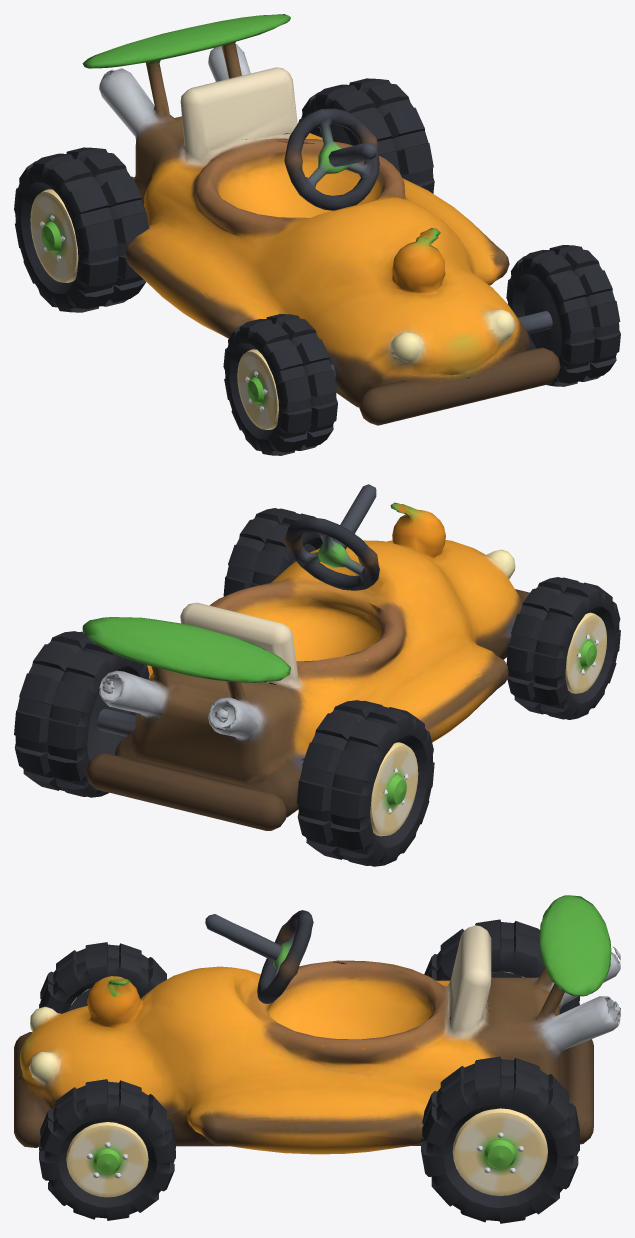
File: kart.capybara.glb
3 renders of one model, top to bottom at view 1: azimuth 30°, elevation 25°; view 2: azimuth 150°, elevation 25°; view 3: azimuth 270°, elevation 25°, orthographic.
Visible parts, largest first — view 1: body, wheel_rr, wheel_fr, wheel_fl, wheel_rl, steering; view 2: body, wheel_rr, wheel_rl, wheel_fr, wheel_fl, steering; view 3: body, wheel_rl, wheel_fl, wheel_fr, wheel_rr, steering.
Part boxes in pixels (<box>): body: <box>82,14,560,425</box>; wheel_rr: <box>14,147,149,312</box>; wheel_fr: <box>223,314,337,455</box>; wheel_fl: <box>506,245,620,386</box>; wheel_rl: <box>298,78,434,193</box>; steering: <box>284,108,379,210</box>; body: <box>82,484,529,830</box>; wheel_rr: <box>297,700,434,866</box>; wheel_rl: <box>14,631,149,797</box>; wheel_fr: <box>506,577,620,719</box>; wheel_fl: <box>223,508,322,596</box>; steering: <box>284,517,379,590</box>; body: <box>14,895,620,1154</box>; wheel_rl: <box>421,1056,579,1223</box>; wheel_fl: <box>39,1079,175,1220</box>; wheel_fr: <box>39,942,166,1013</box>; wheel_rr: <box>424,919,579,1014</box>; steering: <box>257,910,313,1003</box>.
Size of the model in its own units: 1.31 by 0.8087 by 1.95.
3 materials, 1 textured.
